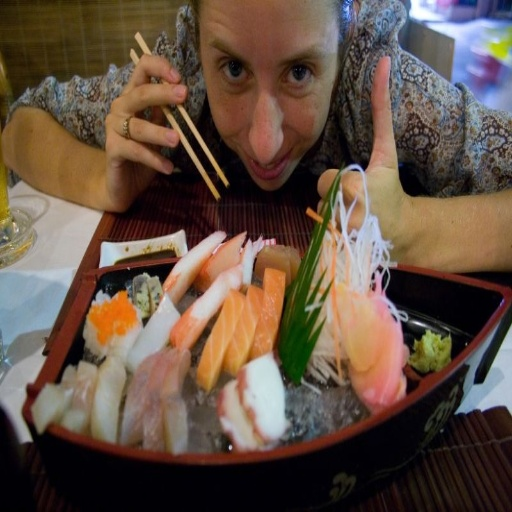hand: (316, 54, 409, 263), (85, 48, 186, 201)
